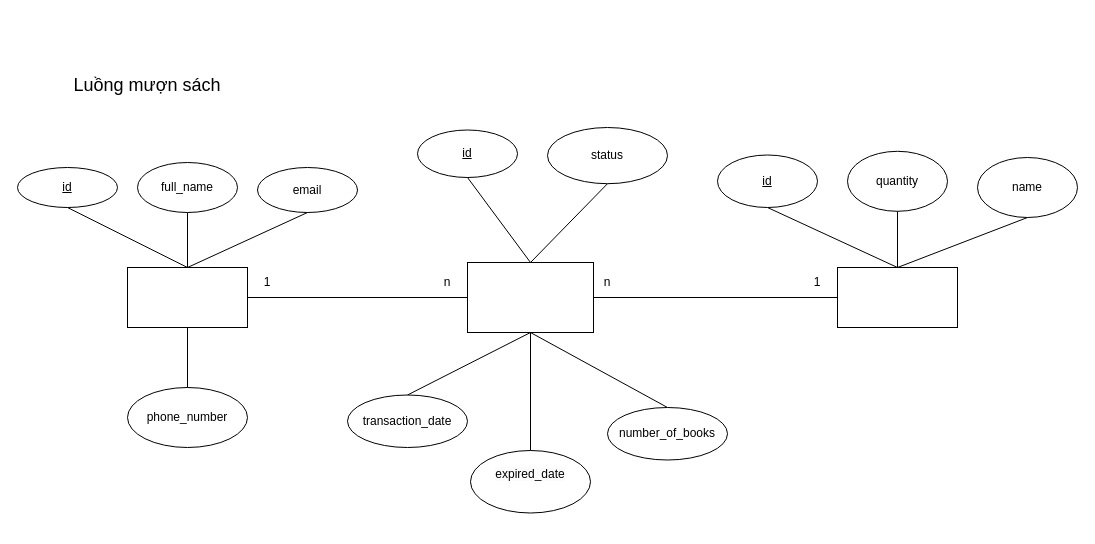
This 1095x544 diagram has some shape labels left out. Here are the shapes that lost their labels. From the top down, the centre of each, then its label:
At (x=187, y=297): "users".
At (x=530, y=297): "transactions".
At (x=897, y=297): "books".
